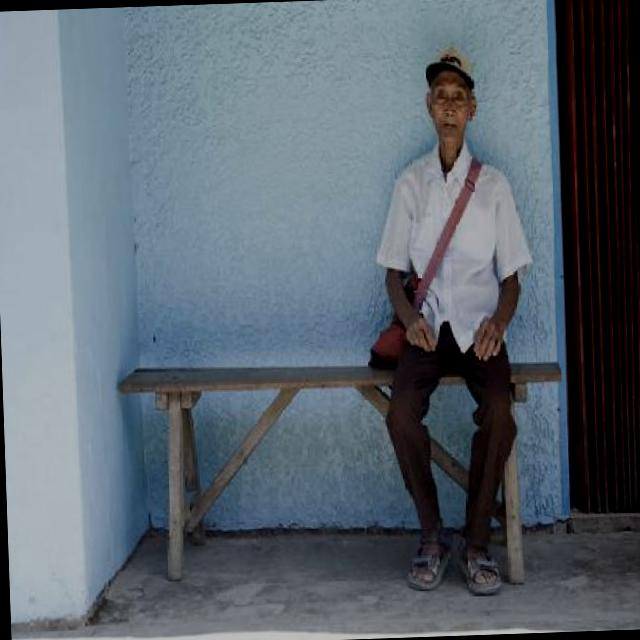Person: (366, 36, 544, 603)
